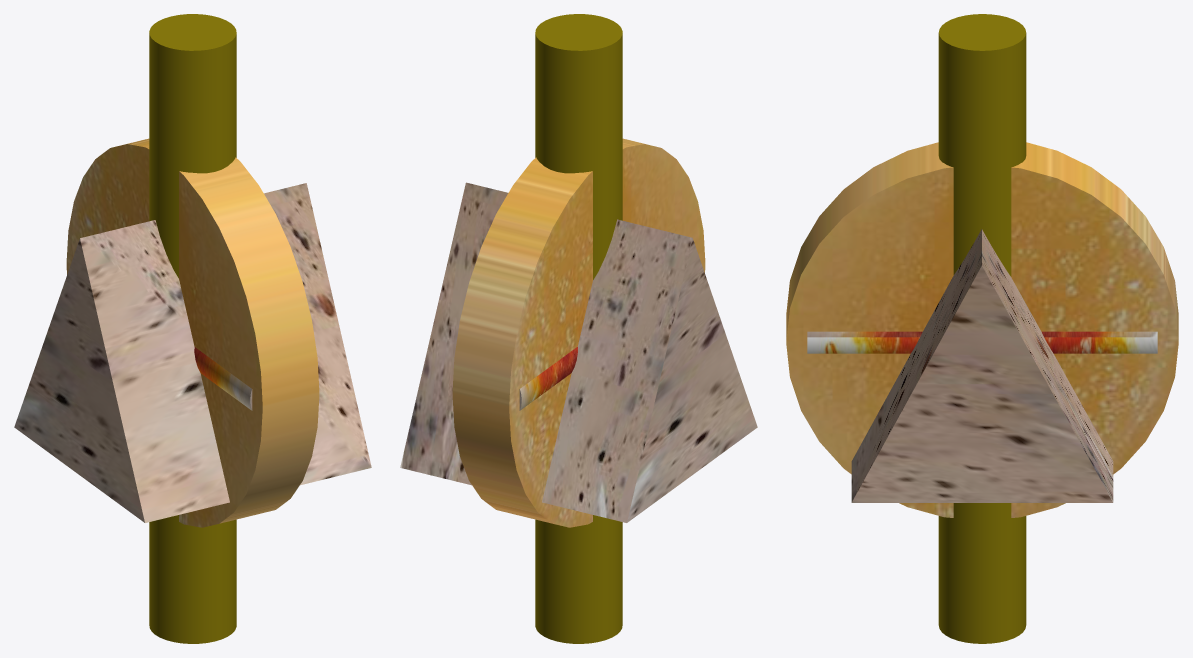
Rendered from OdenGame.fbx.
3 renders of one model, left to right at view 1: azimuth 30°, elevation 25°; view 2: azimuth 150°, elevation 25°; view 3: azimuth 270°, elevation 25°, orthographic.
Parts seen in each view (by area): view 1: pCube2, pCylinder4, pCylinder1, pCylinder2; view 2: pCube2, pCylinder4, pCylinder1, pCylinder2; view 3: pCylinder4, pCube2, pCylinder1, pCylinder2.
Part boxes in pixels (box(x1,y1,x2,y2)): pCube2: box(14, 183, 371, 522); pCylinder4: box(66, 138, 319, 527); pCylinder1: box(149, 14, 236, 643); pCylinder2: box(194, 347, 252, 410); pCube2: box(400, 182, 757, 522); pCylinder4: box(452, 138, 705, 527); pCylinder1: box(535, 14, 622, 643); pCylinder2: box(519, 347, 577, 410); pCylinder4: box(786, 142, 1178, 517); pCube2: box(851, 229, 1113, 502); pCylinder1: box(938, 14, 1026, 643); pCylinder2: box(807, 331, 1157, 353).
Bounding box in the file's own units: 4 × 10 × 6.
Materials: 4 (3 with a texture image).
